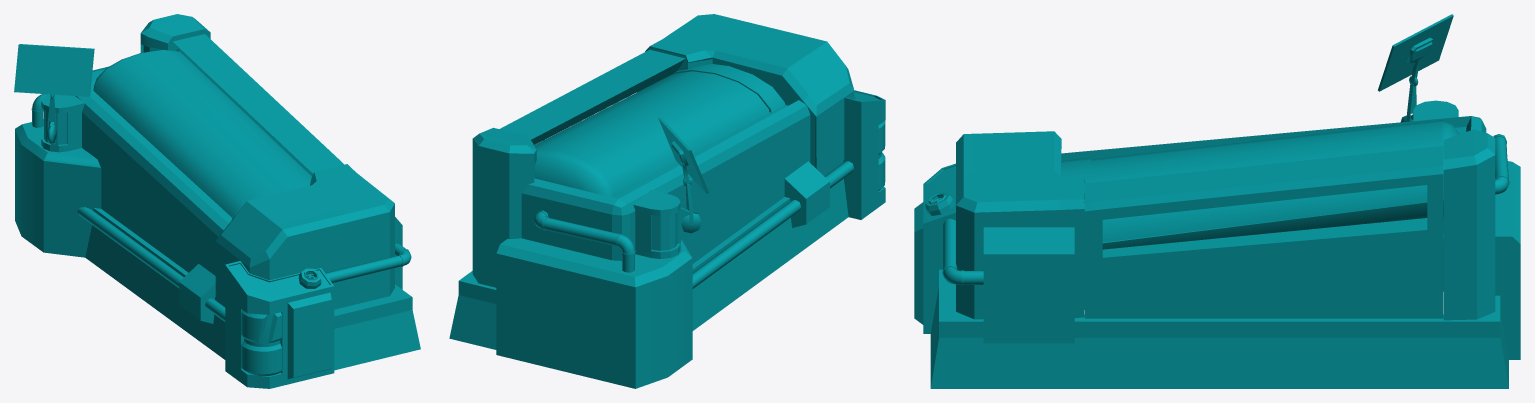
File: Cryopod_metal_3_mpenrod.fbx
The picture shows the model from 3 angles, left to right: view 1: azimuth 30°, elevation 25°; view 2: azimuth 150°, elevation 25°; view 3: azimuth 270°, elevation 25°; orthographic projection. The views are drawn at different scales.
Parts seen in each view (by area): view 1: CryoPod, Battery; view 2: CryoPod, Battery; view 3: CryoPod.
Boxes of the visible parts, <box> form: CryoPod: <box>14,14,420,388</box>; Battery: <box>241,310,281,376</box>; CryoPod: <box>449,14,885,388</box>; Battery: <box>878,121,885,190</box>; CryoPod: <box>914,14,1520,388</box>.
Bounding box in the file's own units: 1.34 × 1.23 × 2.67.
